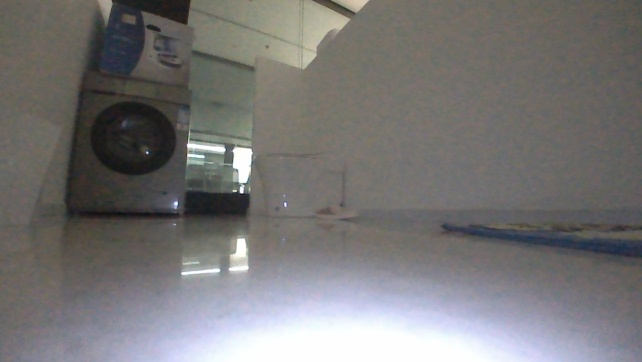blanket: (435, 214, 641, 261)
toilet: (251, 148, 345, 220)
washing_machine: (63, 65, 194, 217)
